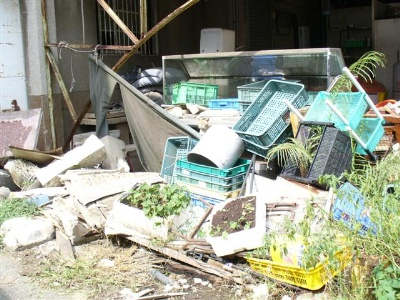bucket: (186, 123, 245, 168)
styrofoam: (111, 180, 191, 244), (207, 192, 267, 257), (36, 134, 108, 187)
